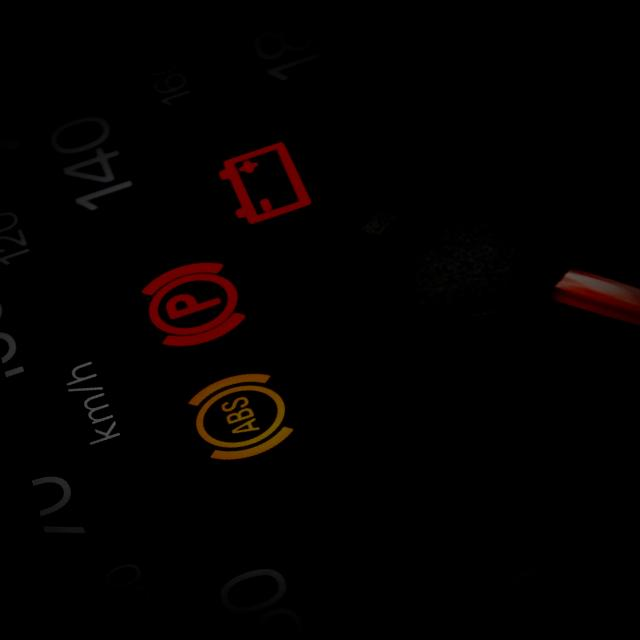kontrolka: (162, 352, 315, 486), (121, 242, 259, 366), (211, 126, 317, 234)
